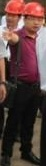boots: (0, 153, 11, 166), (0, 161, 16, 166)
hard-hat: (0, 0, 18, 15)
ppe-suit: (0, 14, 23, 166)
